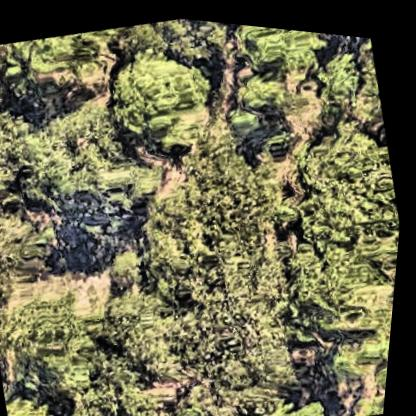tree-top: (130, 129, 306, 306), (14, 107, 176, 242), (275, 99, 411, 250), (176, 273, 321, 412), (97, 31, 230, 168), (282, 205, 403, 340), (0, 289, 115, 416), (102, 279, 196, 388), (6, 19, 124, 97), (217, 57, 303, 141), (0, 206, 72, 302), (76, 350, 178, 416), (0, 72, 45, 212), (224, 19, 326, 80), (304, 33, 376, 116), (104, 237, 158, 296), (247, 386, 333, 416), (10, 382, 80, 416), (375, 346, 394, 396)
